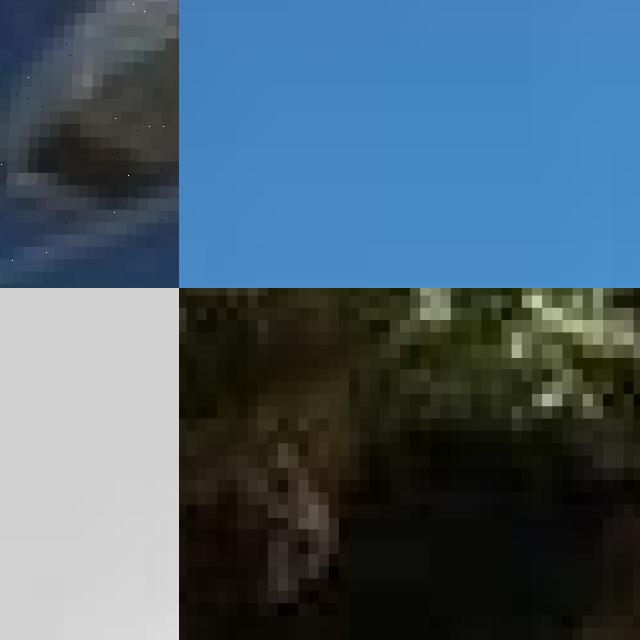street light: (0, 0, 179, 288)
